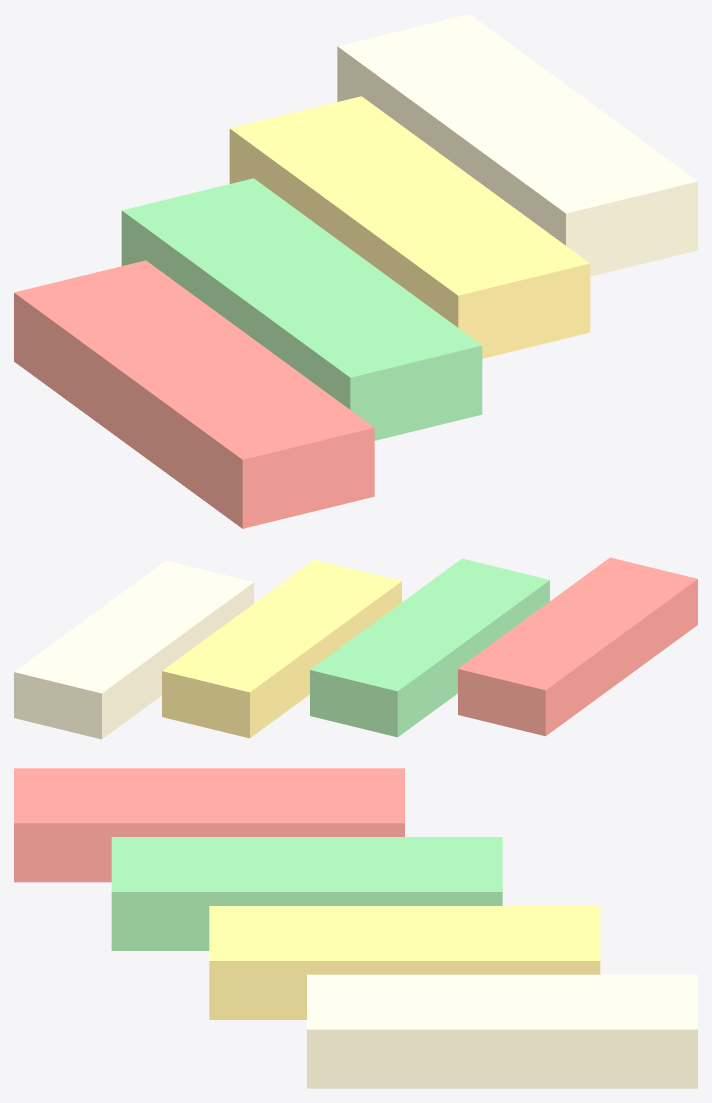
Rendered from modelo.glb.
3 views of the same model, one above another, from view 1: azimuth 30°, elevation 25°; view 2: azimuth 150°, elevation 25°; view 3: azimuth 270°, elevation 25° (orthographic). The views are drawn at different scales.
Visible parts, largest first — view 1: confeti; view 2: confeti; view 3: confeti.
Part boxes in pixels (x1,y1,x2,y2): confeti: (14, 14, 697, 528); confeti: (14, 557, 697, 739); confeti: (14, 768, 697, 1088).
Size of the model in its own units: 0.019 by 0.002 by 0.021.
